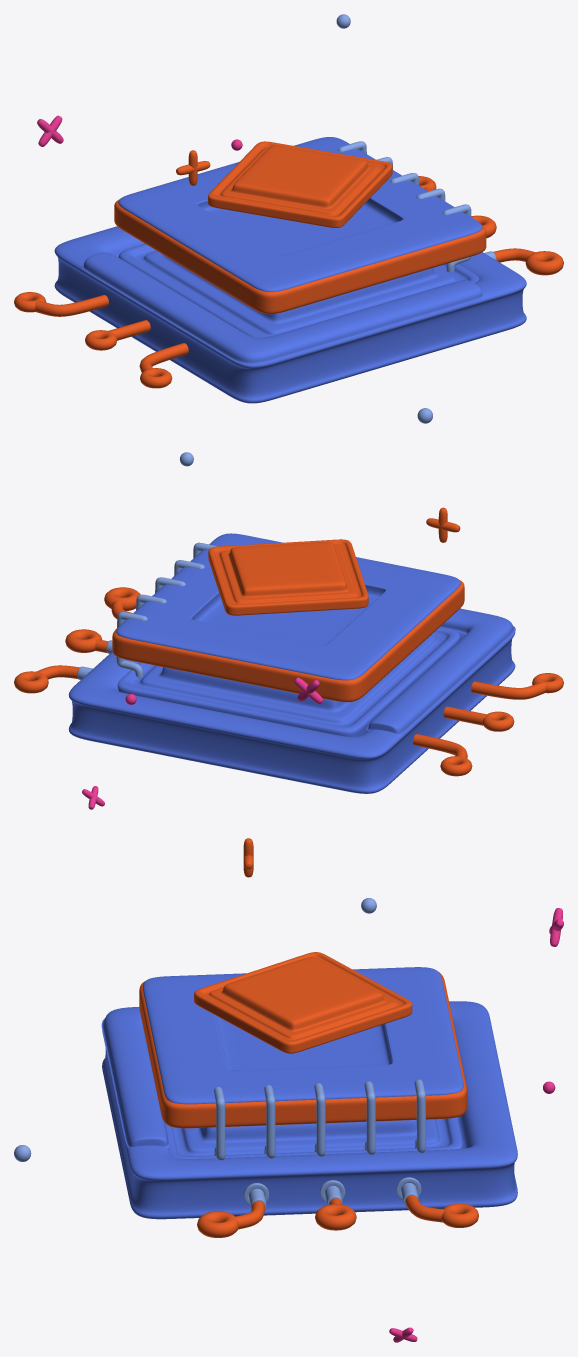
File: microchip-3d-animated-icon-1105371897006.glb
3 views of the same model, one above another, from view 1: azimuth 30°, elevation 25°; view 2: azimuth 150°, elevation 25°; view 3: azimuth 270°, elevation 25° (orthographic). The views are drawn at different scales.
Parts seen in each view (by area): view 1: chip, chip.003, chip.002, chip.001, trail, trail.014, trail.017, trail.001, trail.023, element plus.001, element plus.002; view 2: chip, chip.003, chip.002, chip.001, trail.001, trail.017, trail, trail.012, trail.023, trail.013, trail.014, element plus.001 (+1 smaller); view 3: chip, chip.003, chip.002, chip.001, trail.001, trail.014, trail.002, trail.012, trail.013.
Boxes of the visible parts, x1=… form: chip: x1=54, y1=226, x2=526, y2=403; chip.003: x1=118, y1=137, x2=482, y2=291; chip.002: x1=208, y1=141, x2=392, y2=227; chip.001: x1=114, y1=200, x2=486, y2=314; trail: x1=14, y1=292, x2=108, y2=316; trail.014: x1=493, y1=248, x2=563, y2=275; trail.017: x1=139, y1=343, x2=188, y2=388; trail.001: x1=338, y1=141, x2=471, y2=272; trail.023: x1=85, y1=320, x2=150, y2=350; element plus.001: x1=176, y1=150, x2=210, y2=185; element plus.002: x1=37, y1=115, x2=63, y2=146; chip: x1=68, y1=608, x2=515, y2=793; chip.003: x1=116, y1=533, x2=460, y2=680; chip.002: x1=208, y1=539, x2=368, y2=615; chip.001: x1=112, y1=580, x2=464, y2=702; trail.001: x1=116, y1=542, x2=218, y2=677; trail.017: x1=471, y1=673, x2=563, y2=699; trail: x1=413, y1=734, x2=472, y2=776; trail.012: x1=14, y1=665, x2=79, y2=693; trail.023: x1=443, y1=706, x2=514, y2=731; trail.013: x1=65, y1=629, x2=108, y2=652; trail.014: x1=104, y1=587, x2=140, y2=619; element plus.001: x1=426, y1=507, x2=460, y2=542; chip: x1=101, y1=1001, x2=517, y2=1219; chip.003: x1=143, y1=967, x2=463, y2=1104; chip.002: x1=194, y1=952, x2=412, y2=1053; chip.001: x1=139, y1=971, x2=467, y2=1128; trail.001: x1=214, y1=1079, x2=425, y2=1160; trail.014: x1=197, y1=1200, x2=264, y2=1237; trail.002: x1=244, y1=1177, x2=421, y2=1209; trail.012: x1=405, y1=1195, x2=478, y2=1227; trail.013: x1=315, y1=1198, x2=356, y2=1230.
Bounding box in the file's own units: 6.36 × 4.88 × 6.01.
